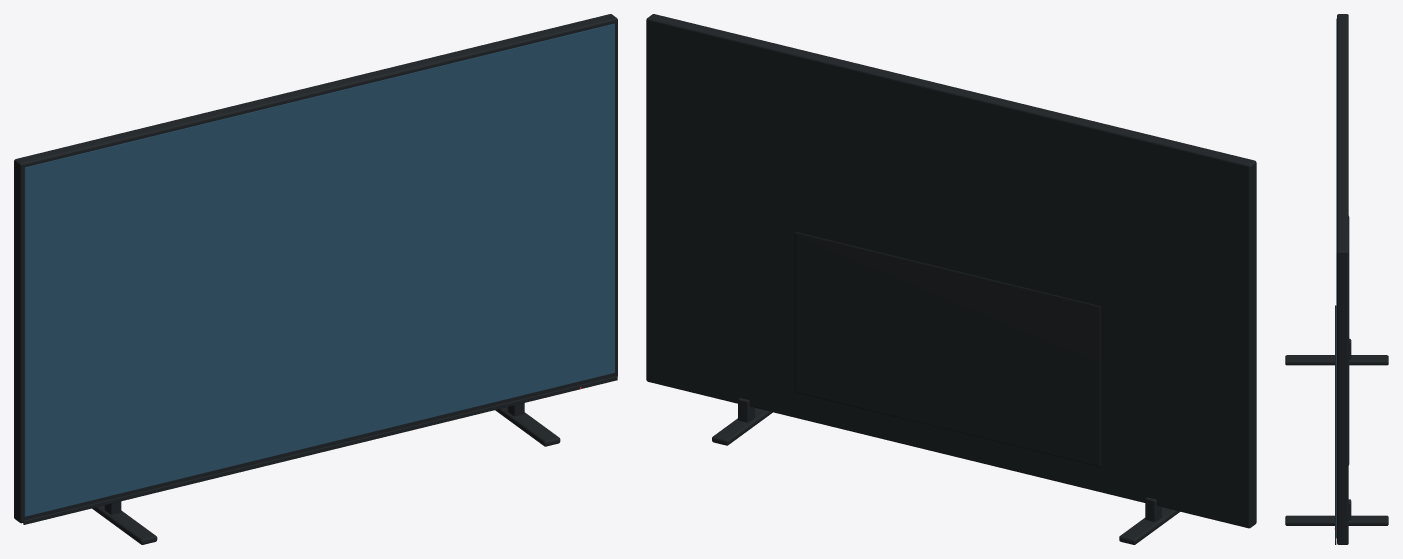
The picture shows the model from 3 angles, left to right: view 1: azimuth 30°, elevation 25°; view 2: azimuth 150°, elevation 25°; view 3: azimuth 270°, elevation 25°; orthographic projection. The views are drawn at different scales.
Parts seen in each view (by area): view 1: Slim_display_glass, Airslim_panel, Lower_bezel, Slimline_stand_foot.001, Slimline_stand_foot; view 2: Airslim_panel, Rear_electronics_spine, Slimline_stand_foot, Slimline_stand_foot.001; view 3: Airslim_panel, Slimline_stand_foot.001, Slimline_stand_foot, Slim_display_glass, Rear_electronics_spine, Lower_bezel.
Part boxes in pixels (left/top/right/bottom): Slim_display_glass: left=24, top=23, right=614, bottom=516; Airslim_panel: left=14, top=14, right=617, bottom=523; Lower_bezel: left=23, top=376, right=617, bottom=524; Slimline_stand_foot.001: left=495, top=407, right=560, bottom=446; Slimline_stand_foot: left=92, top=505, right=157, bottom=544; Airslim_panel: left=646, top=14, right=1256, bottom=528; Rear_electronics_spine: left=794, top=232, right=1100, bottom=466; Slimline_stand_foot: left=1119, top=507, right=1179, bottom=544; Slimline_stand_foot.001: left=712, top=408, right=772, bottom=445; Airslim_panel: left=1337, top=14, right=1348, bottom=544; Slimline_stand_foot.001: left=1285, top=515, right=1388, bottom=525; Slimline_stand_foot: left=1285, top=355, right=1388, bottom=365; Slim_display_glass: left=1336, top=18, right=1336, bottom=538; Rear_electronics_spine: left=1348, top=216, right=1349, bottom=465; Lower_bezel: left=1335, top=305, right=1336, bottom=544.
Size of the model in its own units: 1.23 by 0.7488 by 0.2263.
